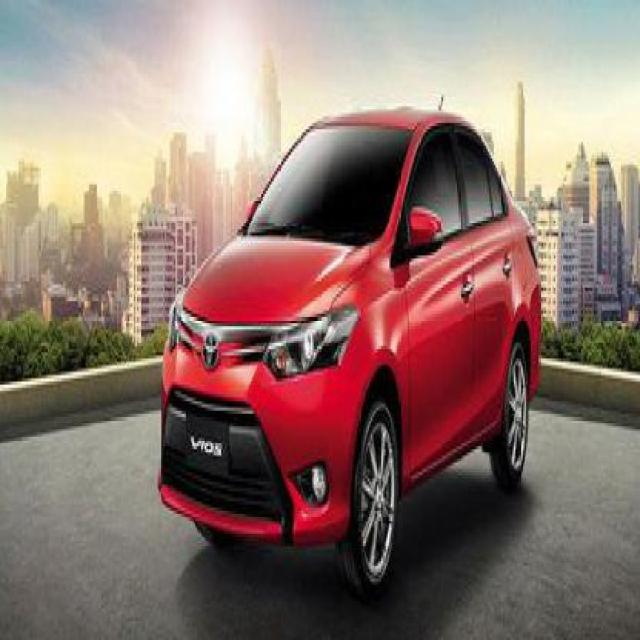ToyotaVios: (155, 100, 543, 600)
